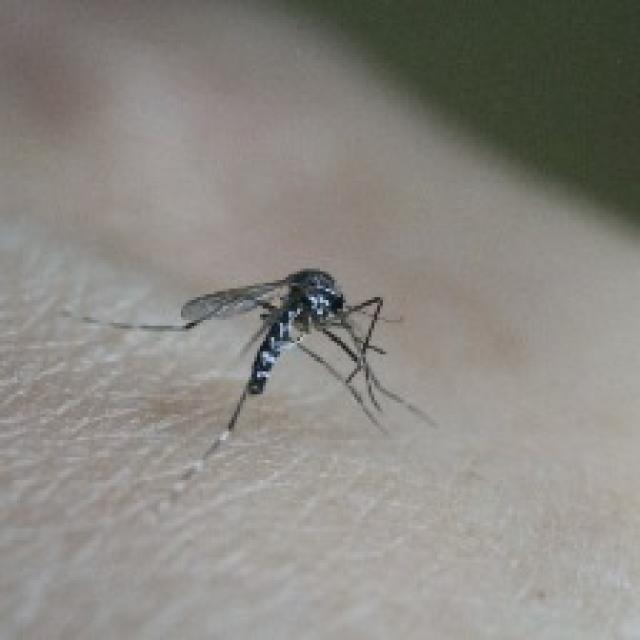aedes: (66, 263, 434, 463)
